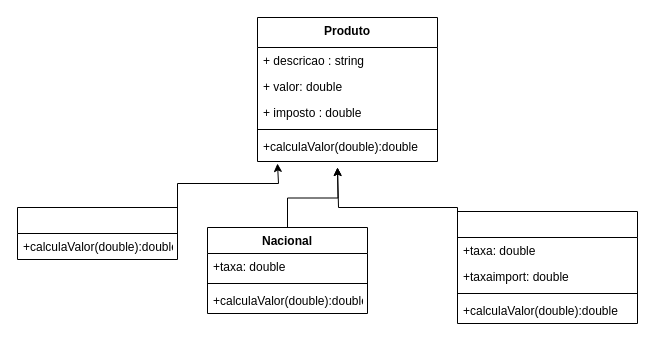
The diagram is 655 pixels wide and 344 high, and some of its shapes have lost their labels. The box of each missing label's shape, as (x1, y1, x2, y2) in pixels:
Estadual: (16, 206, 178, 260)
Importado: (456, 210, 638, 324)
